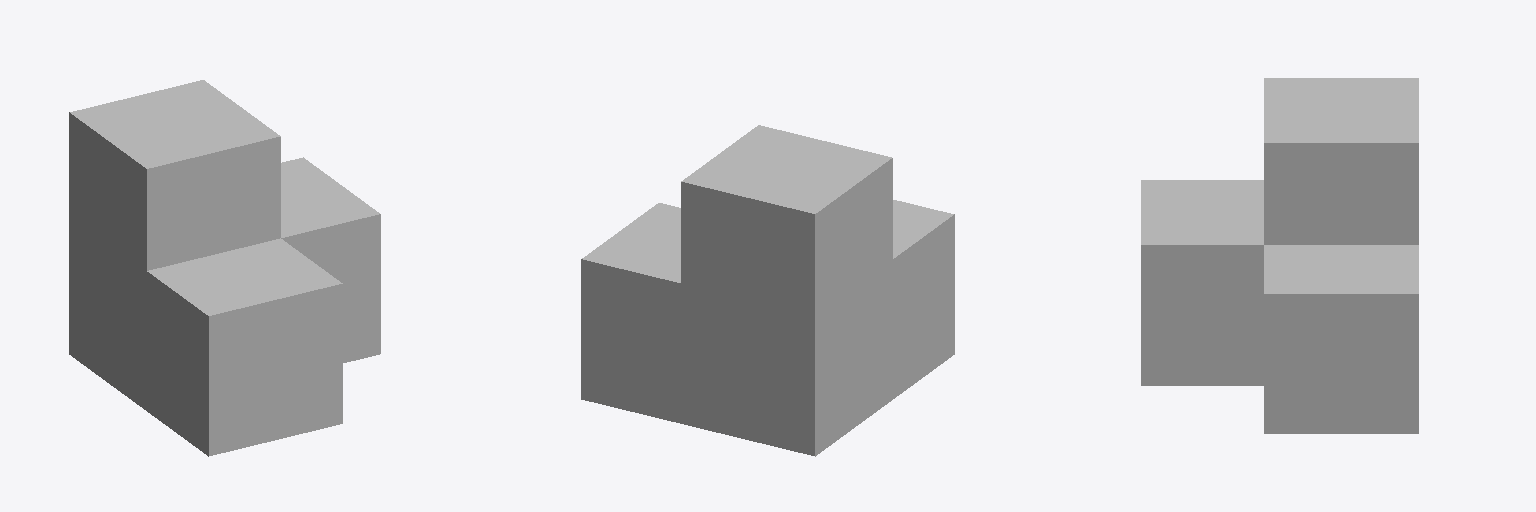
Rendered from Tetris3.obj.
3 renders of one model, left to right at view 1: azimuth 30°, elevation 25°; view 2: azimuth 150°, elevation 25°; view 3: azimuth 270°, elevation 25°, orthographic.
Visible parts, largest first — view 1: Cube; view 2: Cube; view 3: Cube.
Boxes of the visible parts, x1,y1,x2,y2 form: Cube: [69, 80, 380, 456]; Cube: [581, 125, 954, 456]; Cube: [1141, 78, 1418, 433].
Size of the model in its own units: 3.49 by 3.45 by 3.6.